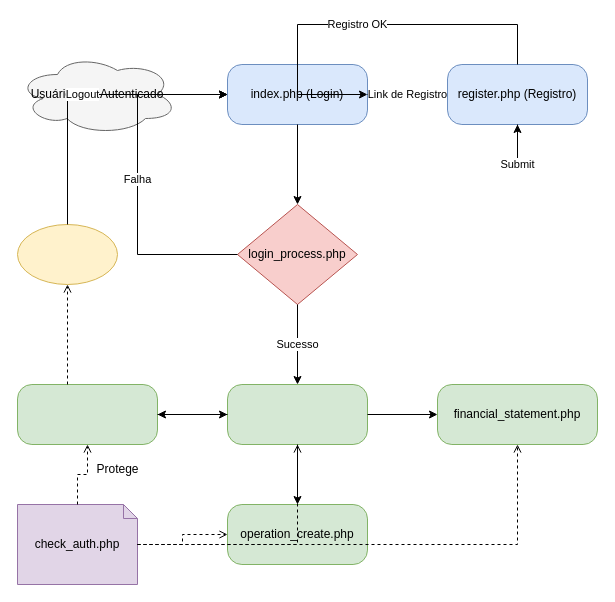
Some shapes in this 615 by 602 pixel diagram are drawn without their labels. Each missing label, with the centre of its shape:
"dashboard.php" goes at [87,414].
"logout.php" goes at [67,254].
"operation_list.php" goes at [297,414].
